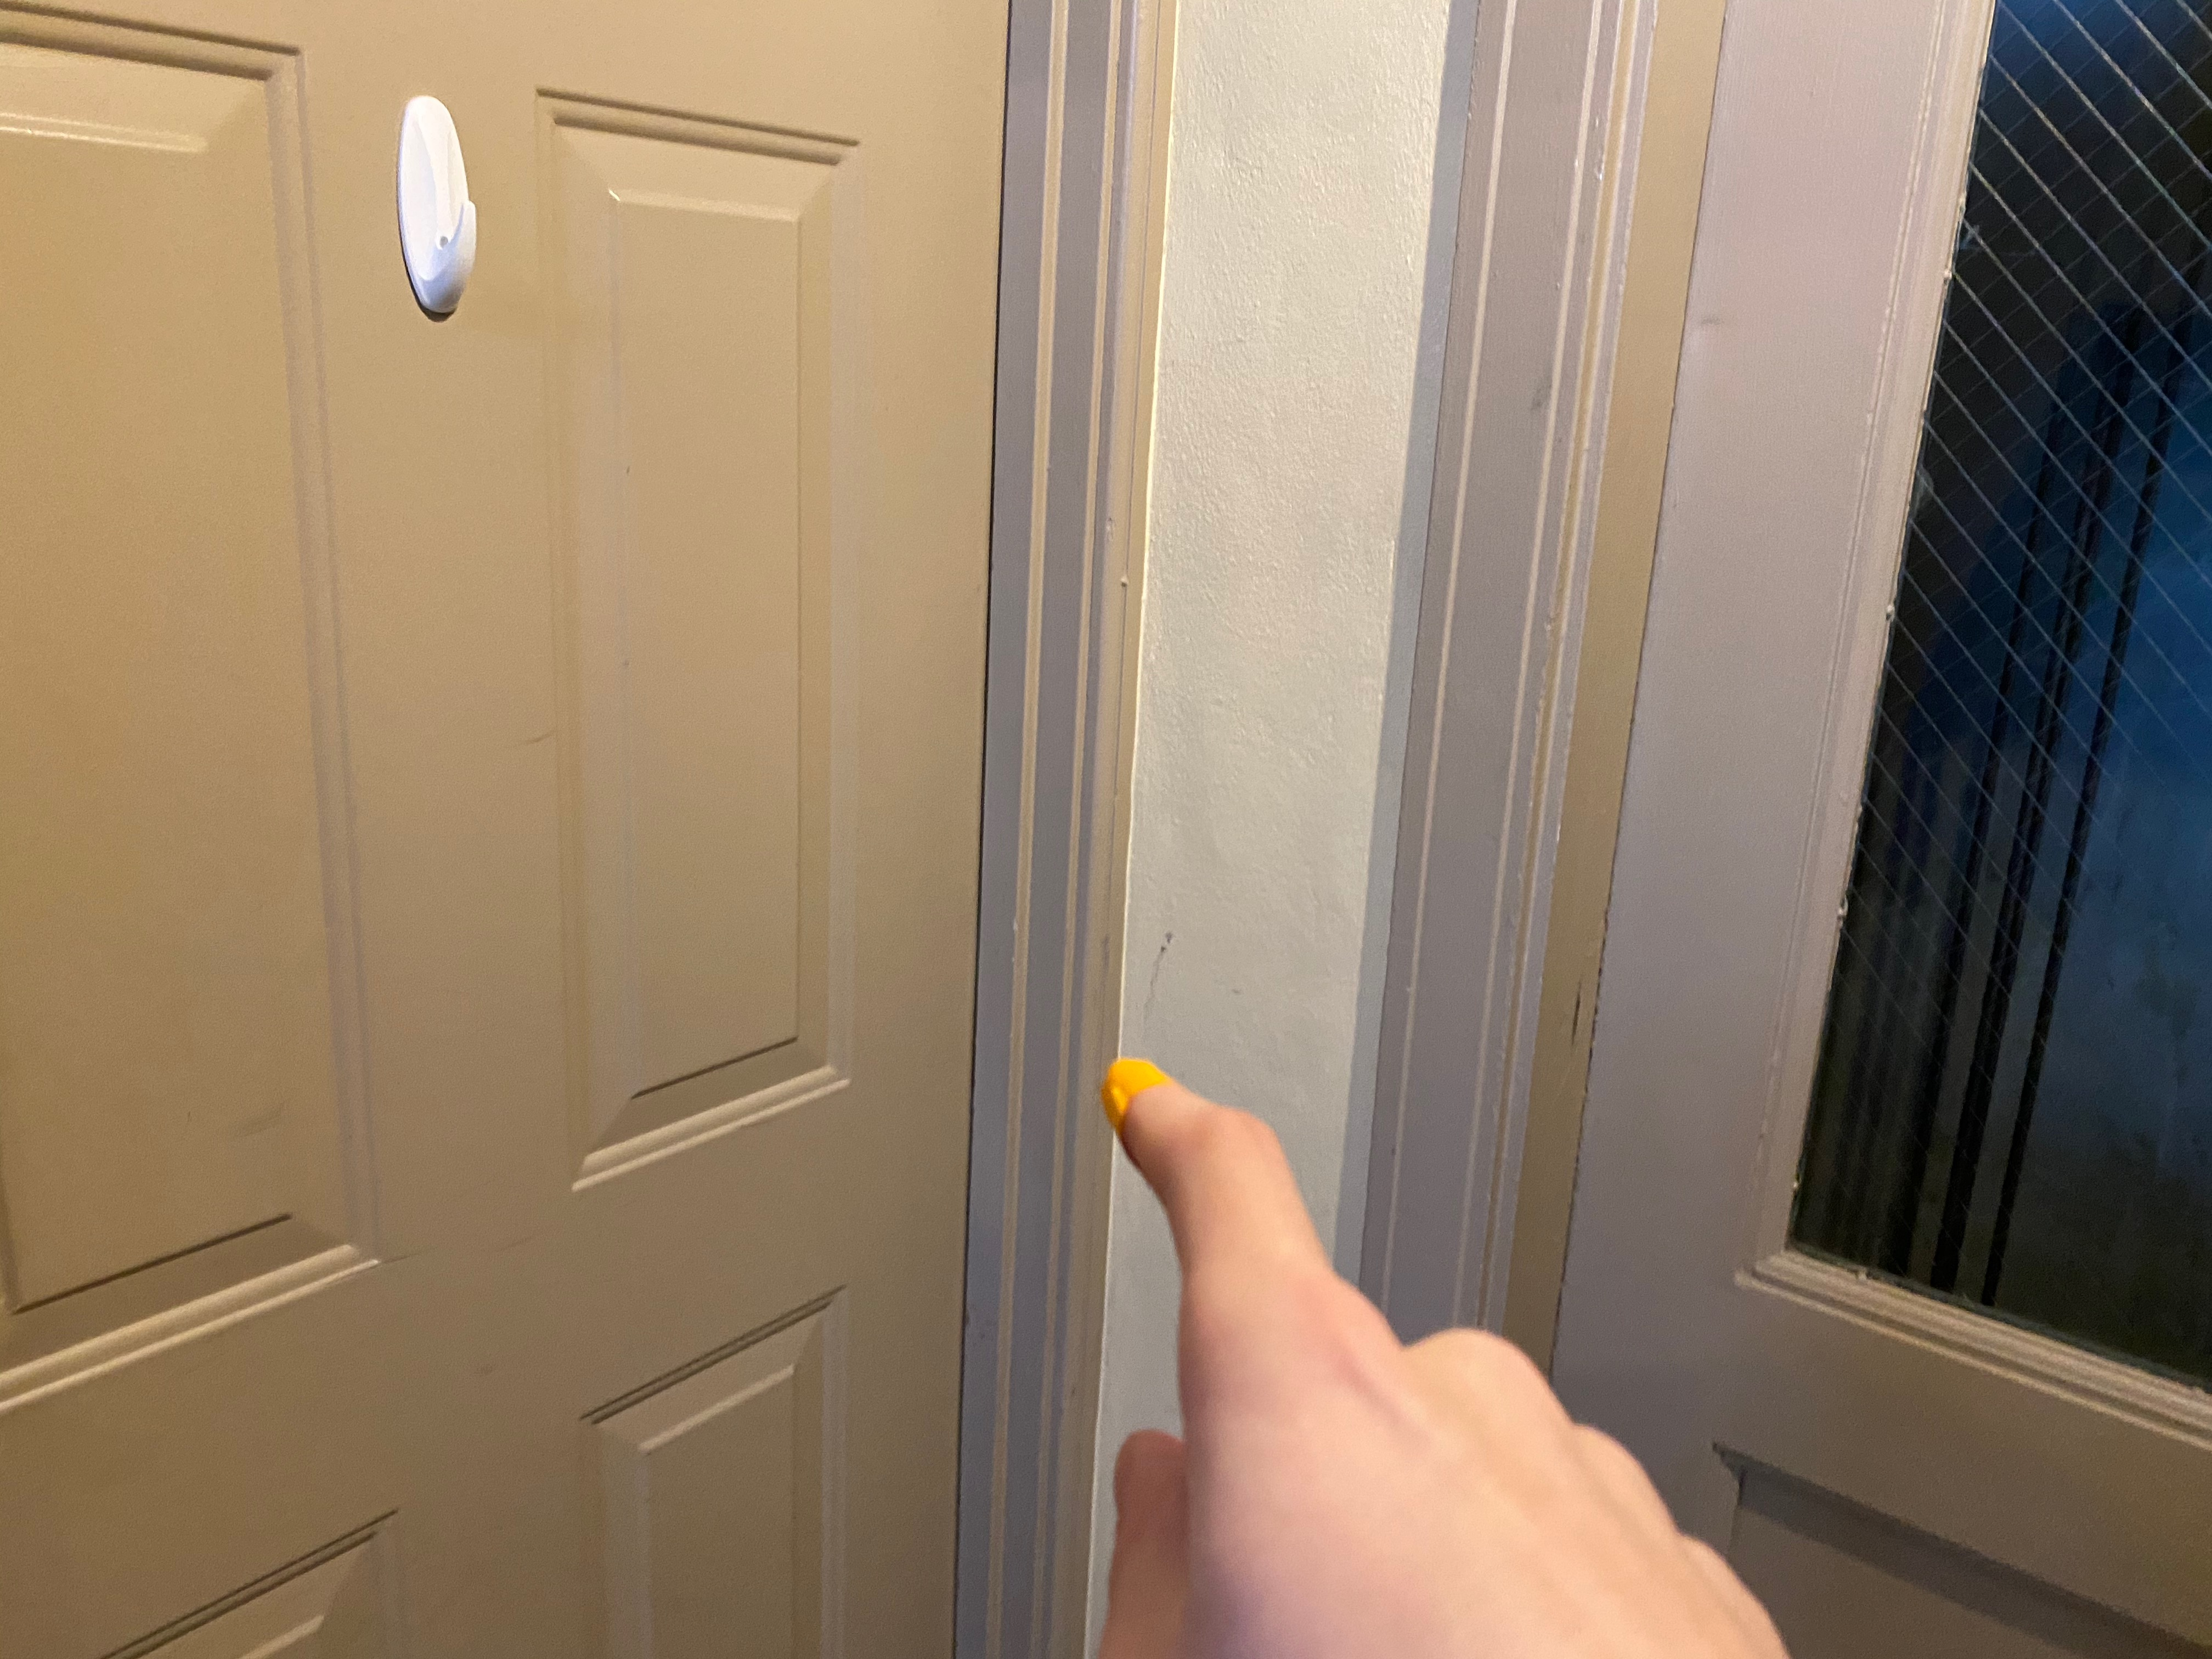fingertip: (1078, 1037, 1233, 1133)
